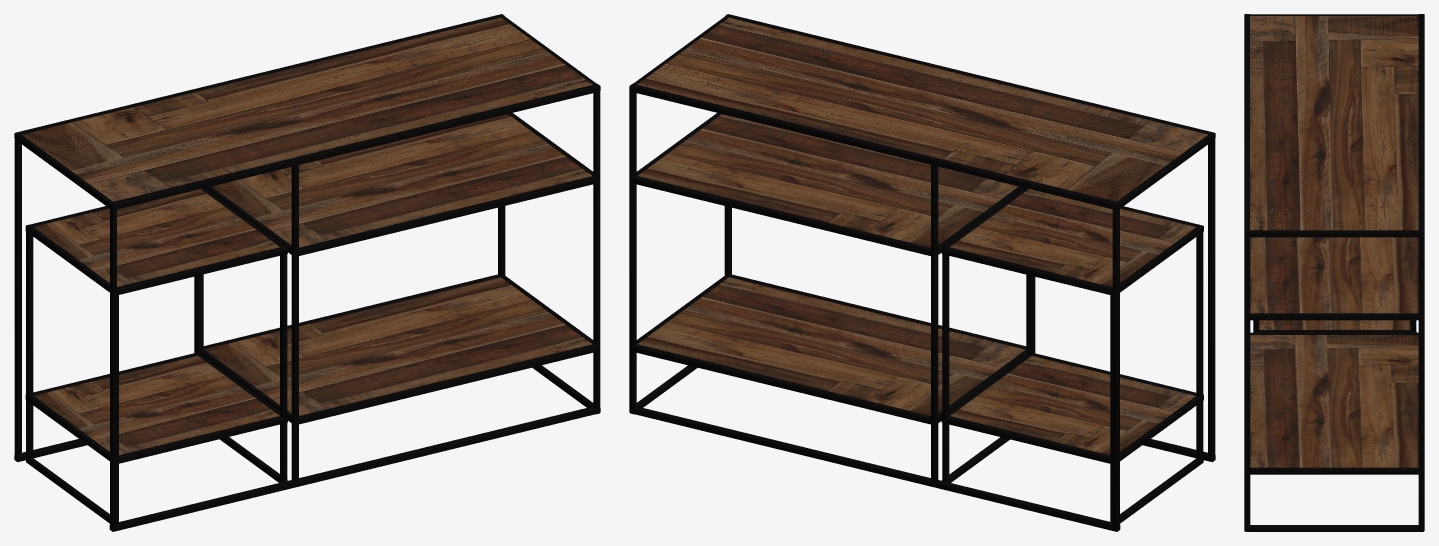
Rendered from example16.glb.
The picture shows the model from 3 angles, left to right: view 1: azimuth 30°, elevation 25°; view 2: azimuth 150°, elevation 25°; view 3: azimuth 270°, elevation 25°; orthographic projection. The views are drawn at different scales.
Visible parts, largest first — view 1: Merged Objects 1, Merged Objects; view 2: Merged Objects 1, Merged Objects; view 3: Merged Objects 1, Merged Objects.
Boxes of the visible parts, box(x1,y1,x2,y2) form: Merged Objects 1: box(22, 17, 592, 455); Merged Objects: box(14, 14, 600, 531); Merged Objects 1: box(637, 17, 1207, 455); Merged Objects: box(629, 14, 1215, 531); Merged Objects 1: box(1250, 16, 1418, 467); Merged Objects: box(1244, 14, 1424, 531).
Size of the model in its own units: 1.32 by 0.848 by 0.462.
2 materials, 1 textured.
